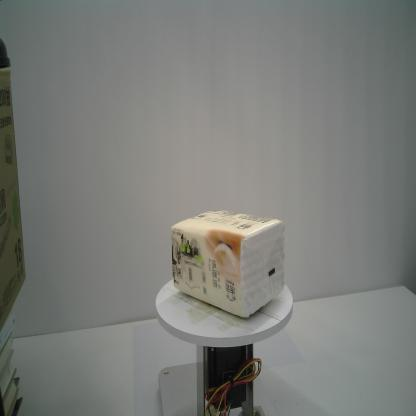Tissue: (170, 210, 286, 320)
